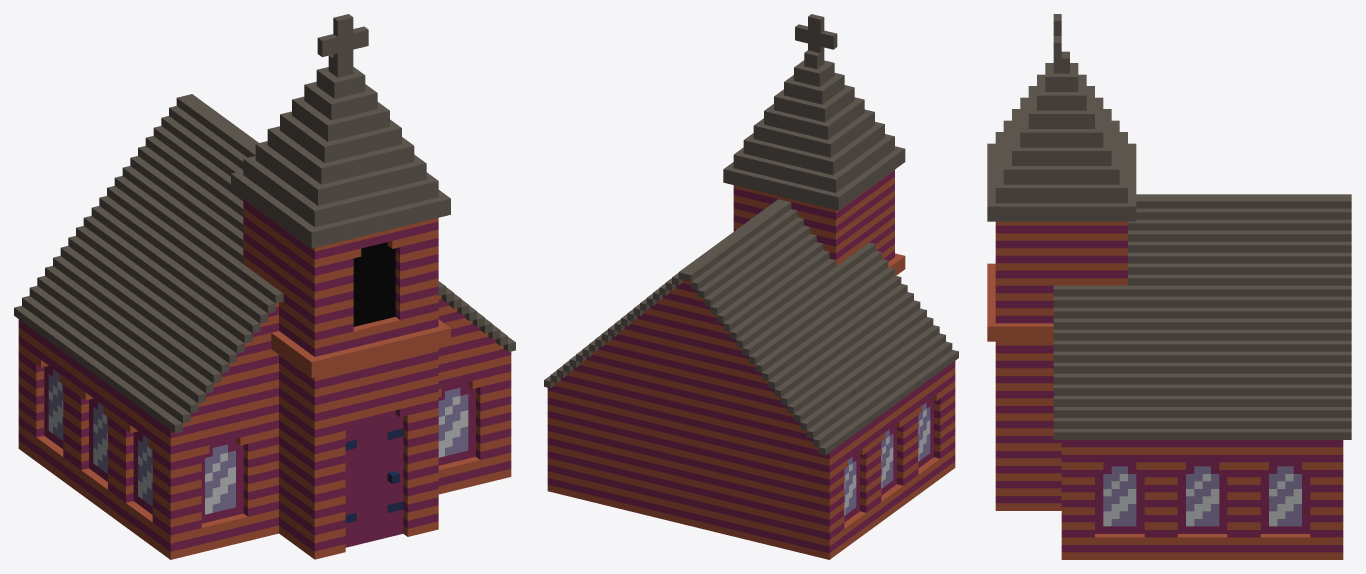
File: church_a.obj
3 renders of one model, left to right at view 1: azimuth 30°, elevation 25°; view 2: azimuth 150°, elevation 25°; view 3: azimuth 270°, elevation 25°, orthographic. The views are drawn at different scales.
Size of the model in its own units: 4.4 by 6.2 by 4.4.
1 material, 1 textured.
